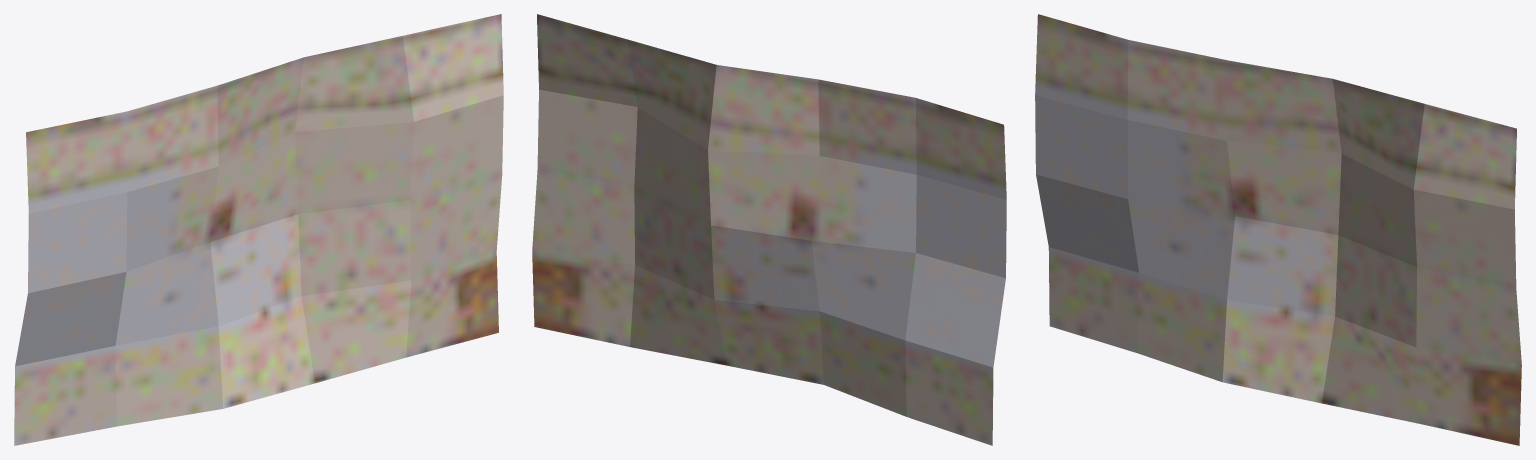
The model's file is note.fbx.
The picture shows the model from 3 angles, left to right: view 1: azimuth 30°, elevation 25°; view 2: azimuth 150°, elevation 25°; view 3: azimuth 330°, elevation 25°; orthographic projection. The views are drawn at different scales.
Visible parts, largest first — view 1: Плоскость.003; view 2: Плоскость.003; view 3: Плоскость.003.
Part boxes in pixels (box(x1,y1,x2,y2)): Плоскость.003: box(14, 14, 503, 445); Плоскость.003: box(532, 14, 1006, 445); Плоскость.003: box(1035, 14, 1521, 445).
Bounding box in the file's own units: 94.69 × 61.12 × 8.17.
